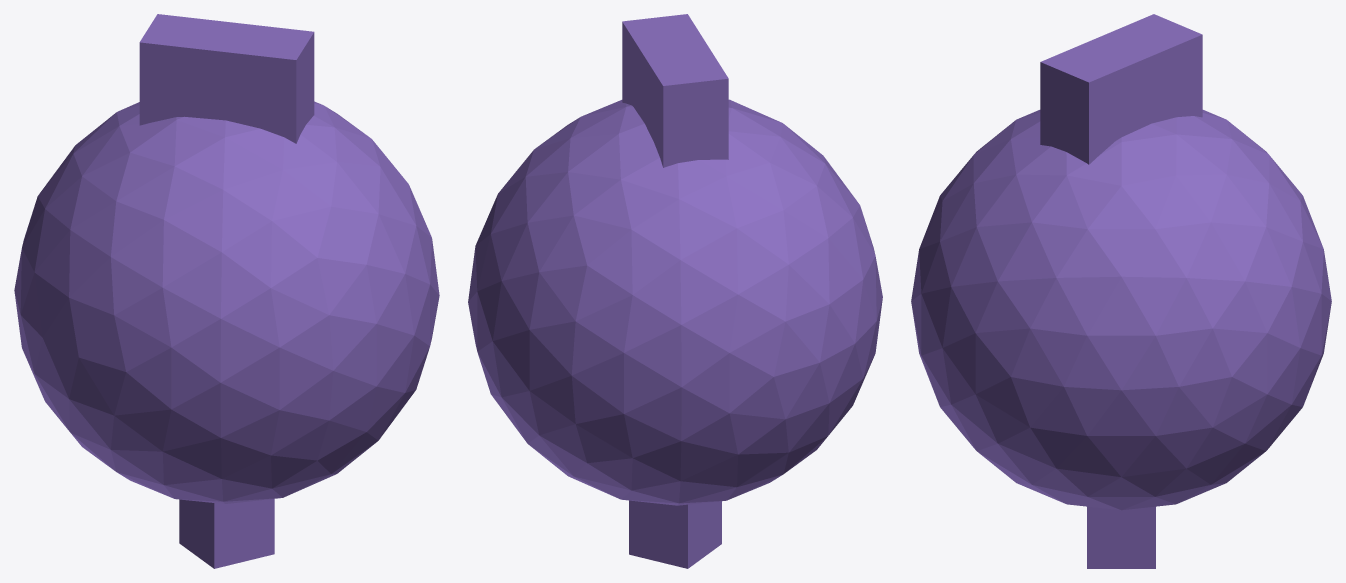
The model's file is luxury_200.glb.
The picture shows the model from 3 angles, left to right: view 1: azimuth 30°, elevation 25°; view 2: azimuth 150°, elevation 25°; view 3: azimuth 270°, elevation 25°; orthographic projection. The views are drawn at different scales.
Visible parts, largest first — view 1: world; view 2: world; view 3: world.
Boxes of the visible parts, left/top/right/bottom form: world: left=14, top=14, right=439, bottom=568; world: left=468, top=14, right=882, bottom=568; world: left=911, top=14, right=1331, bottom=568.
Bounding box in the file's own units: 1.1 × 1.46 × 1.1.
